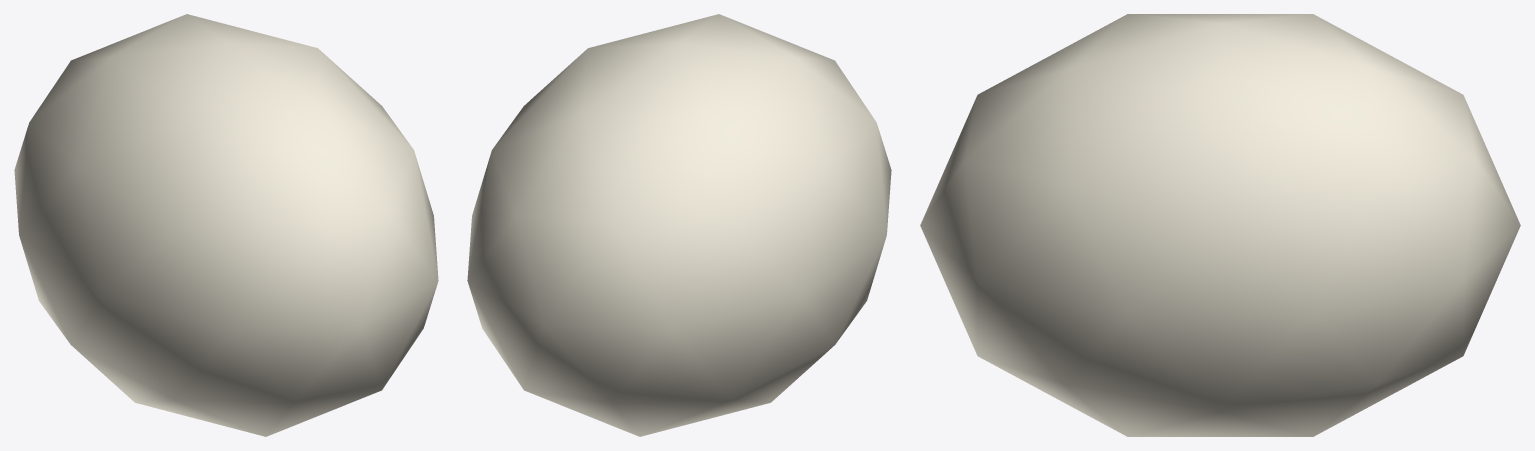
File: lemon.glb
3 renders of one model, left to right at view 1: azimuth 30°, elevation 25°; view 2: azimuth 150°, elevation 25°; view 3: azimuth 270°, elevation 25°, orthographic. The views are drawn at different scales.
Parts seen in each view (by area): view 1: lemon; view 2: lemon; view 3: lemon.
Boxes of the visible parts, box(x1,y1,x2,y2) form: lemon: box(14, 14, 438, 436); lemon: box(467, 14, 891, 436); lemon: box(920, 14, 1520, 436).
Bounding box in the file's own units: 0.0647 × 0.068 × 0.0918.
